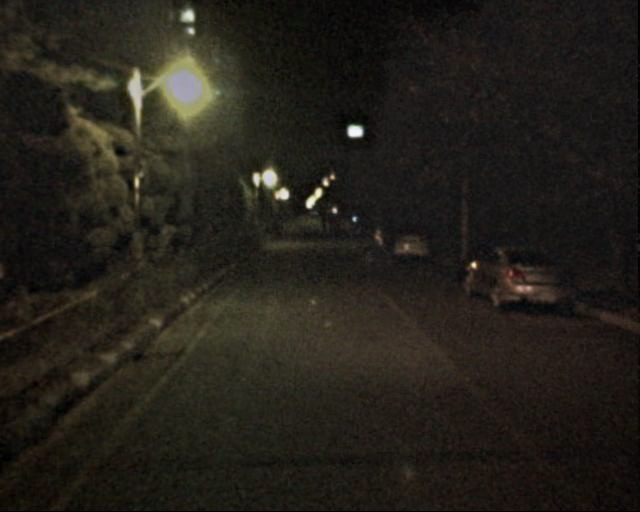person: (358, 224, 376, 269), (377, 219, 395, 264), (318, 218, 337, 238), (278, 215, 289, 241)
